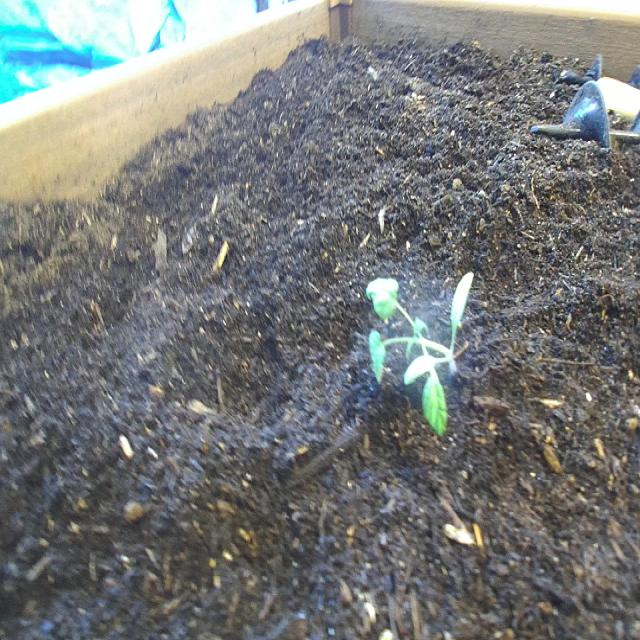Healthy: (363, 267, 477, 441)
